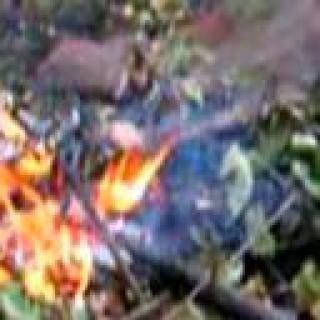fire: (0, 47, 155, 300)
